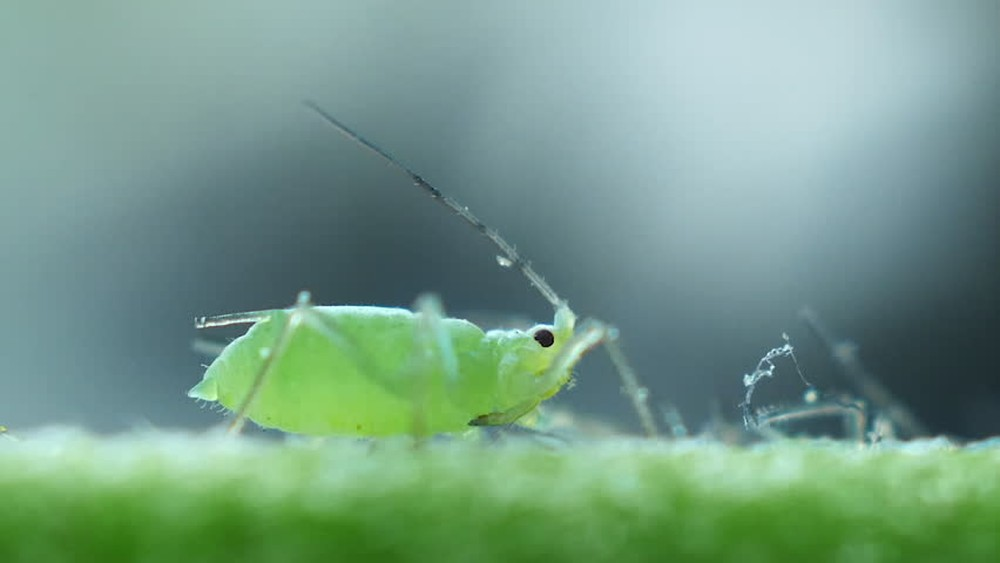Pulgon: (170, 156, 674, 507)
